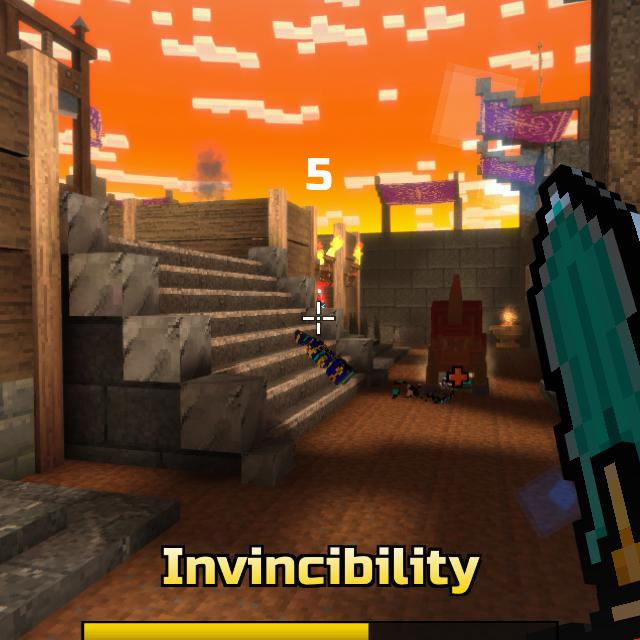Enemy: (317, 289, 326, 308)
